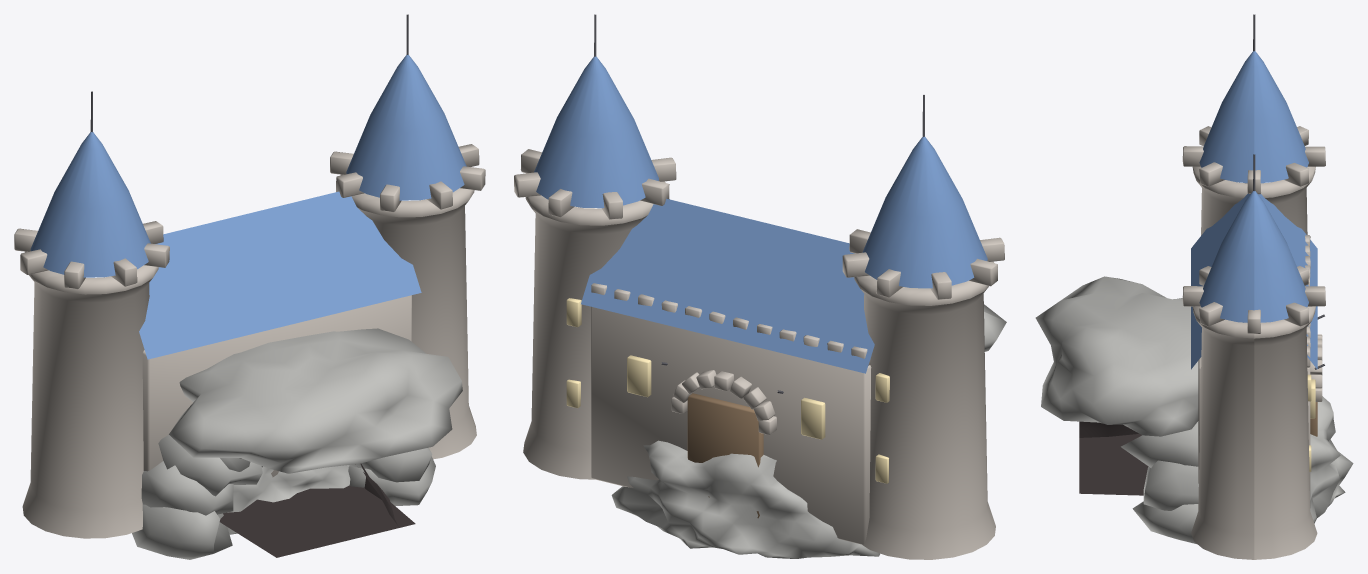
The model's file is adventure_ruins.glb.
3 views of the same model, side by side, from view 1: azimuth 30°, elevation 25°; view 2: azimuth 150°, elevation 25°; view 3: azimuth 270°, elevation 25° (orthographic). The views are drawn at different scales.
Visible parts, largest first — view 1: star_castle, cave_entrance, boulder_cliff; view 2: star_castle, boulder_cliff, cave_entrance; view 3: star_castle, cave_entrance, boulder_cliff.
Boxes of the visible parts, x1,y1,x2,y2 form: star_castle: (14, 14, 485, 538); cave_entrance: (132, 328, 462, 559); boulder_cliff: (227, 465, 350, 534); star_castle: (514, 14, 1004, 559); boulder_cliff: (611, 440, 879, 558); cave_entrance: (911, 288, 1006, 351); star_castle: (1182, 14, 1325, 559); cave_entrance: (1035, 276, 1198, 543); boulder_cliff: (1310, 396, 1353, 523).
Size of the model in its own units: 19.5 by 18.4 by 13.08.
